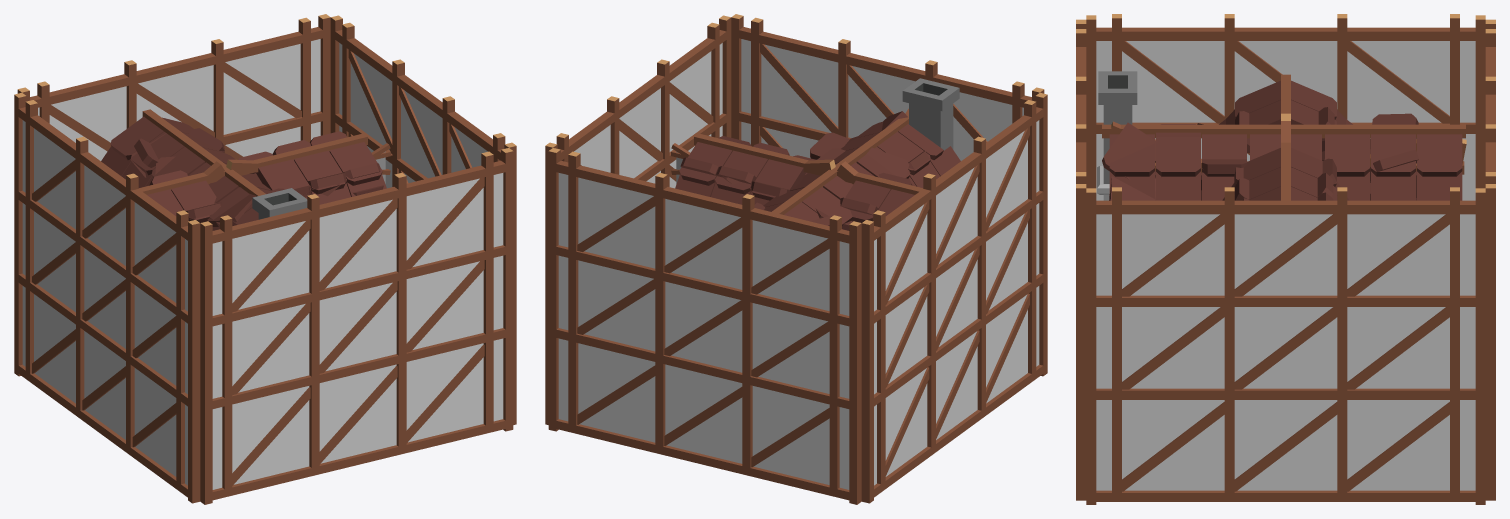
File: Town Center.fbx
3 views of the same model, side by side, from view 1: azimuth 30°, elevation 25°; view 2: azimuth 150°, elevation 25°; view 3: azimuth 270°, elevation 25° (orthographic). The views are drawn at different scales.
Visible parts, largest first — view 1: Scaffold, Roof, Destruction_phase_1, Carcass, Destruction_phase_2, Destruction_phase_3, First_Floor; view 2: Scaffold, Roof, Destruction_phase_1, First_Floor, Carcass, Destruction_phase_2, Destruction_phase_3; view 3: Scaffold, Roof, Carcass, Destruction_phase_3, First_Floor, Destruction_phase_1, Destruction_phase_2.
Part boxes in pixels (left/top/right/bottom): Scaffold: left=14, top=14, right=516, bottom=504; Roof: left=101, top=116, right=386, bottom=230; Destruction_phase_1: left=139, top=133, right=367, bottom=226; Carcass: left=138, top=109, right=367, bottom=196; Destruction_phase_2: left=130, top=131, right=390, bottom=197; Destruction_phase_3: left=134, top=114, right=390, bottom=225; First_Floor: left=252, top=188, right=307, bottom=219; Scaffold: left=545, top=14, right=1047, bottom=504; Roof: left=675, top=121, right=960, bottom=225; Destruction_phase_1: left=694, top=133, right=922, bottom=230; First_Floor: left=902, top=78, right=959, bottom=150; Carcass: left=694, top=114, right=923, bottom=214; Destruction_phase_2: left=671, top=136, right=858, bottom=196; Destruction_phase_3: left=671, top=108, right=929, bottom=225; Scaffold: left=1076, top=14, right=1495, bottom=504; Roof: left=1109, top=80, right=1462, bottom=200; Carcass: left=1102, top=74, right=1465, bottom=200; Destruction_phase_3: left=1102, top=113, right=1466, bottom=200; First_Floor: left=1097, top=71, right=1137, bottom=200; Destruction_phase_1: left=1109, top=74, right=1334, bottom=200; Destruction_phase_2: left=1155, top=113, right=1416, bottom=200.
Size of the model in its own units: 4.1 by 3.39 by 4.1.
